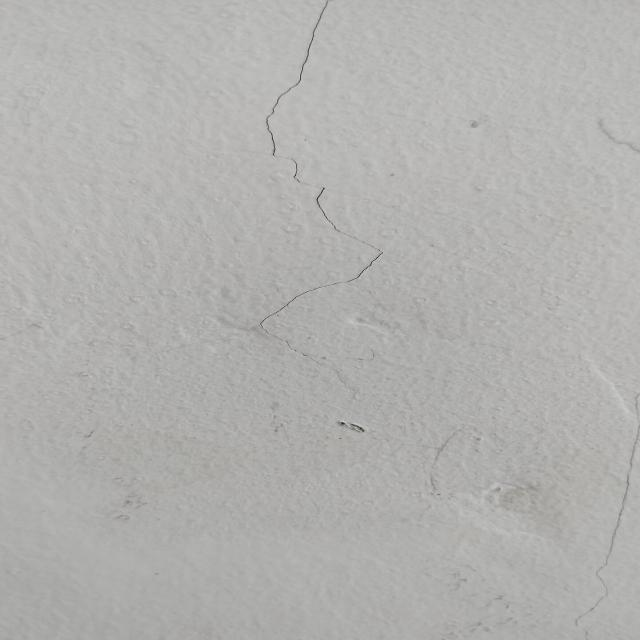Crack: (237, 0, 392, 380)
